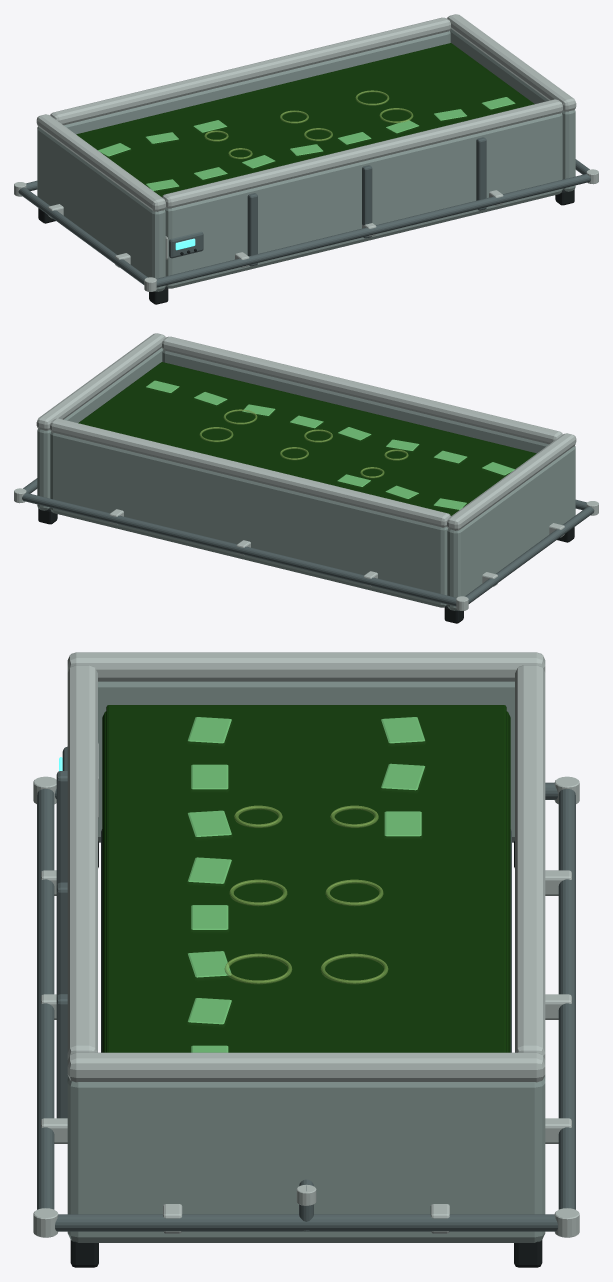
File: Grand bac industriel pour algues.glb
3 renders of one model, top to bottom at view 1: azimuth 30°, elevation 25°; view 2: azimuth 150°, elevation 25°; view 3: azimuth 270°, elevation 25°, orthographic. The views are drawn at different scales.
Parts seen in each view (by area): view 1: 21_large_industrial_algae_vat_Water_Surface, 21_large_industrial_algae_vat_Vat_Wall_Front, 21_large_industrial_algae_vat_Vat_Wall_Left, 21_large_industrial_algae_vat_Reinforced_Rim_Front, 21_large_industrial_algae_vat_Reinforced_Rim_Rear, 21_large_industrial_algae_vat_Vat_Wall_Rear, 21_large_industrial_algae_vat_Perimeter_Front, 21_large_industrial_algae_vat_Reinforced_Rim_Left, 21_large_industrial_algae_vat_Reinforced_Rim_Right, 21_large_industrial_algae_vat_Vat_Wall_Right, 21_large_industrial_algae_vat_Perimeter_Left, 21_large_industrial_algae_vat_Front_Vertical_Brace_+1.22 (+3 smaller); view 2: 21_large_industrial_algae_vat_Vat_Wall_Rear, 21_large_industrial_algae_vat_Water_Surface, 21_large_industrial_algae_vat_Vat_Wall_Left, 21_large_industrial_algae_vat_Reinforced_Rim_Rear, 21_large_industrial_algae_vat_Reinforced_Rim_Front, 21_large_industrial_algae_vat_Vat_Wall_Front, 21_large_industrial_algae_vat_Perimeter_Rear, 21_large_industrial_algae_vat_Reinforced_Rim_Left, 21_large_industrial_algae_vat_Reinforced_Rim_Right, 21_large_industrial_algae_vat_Vat_Wall_Right, 21_large_industrial_algae_vat_Perimeter_Left; view 3: 21_large_industrial_algae_vat_Water_Surface, 21_large_industrial_algae_vat_Vat_Wall_Right, 21_large_industrial_algae_vat_Reinforced_Rim_Right, 21_large_industrial_algae_vat_Reinforced_Rim_Left, 21_large_industrial_algae_vat_Reinforced_Rim_Front, 21_large_industrial_algae_vat_Reinforced_Rim_Rear, 21_large_industrial_algae_vat_Vat_Wall_Left, 21_large_industrial_algae_vat_Perimeter_Right, 21_large_industrial_algae_vat_Perimeter_Front, 21_large_industrial_algae_vat_Perimeter_Rear, 21_large_industrial_algae_vat_Algae_Liquid, 21_large_industrial_algae_vat_Front_Vertical_Brace_+1.22 (+13 smaller).
Boxes of the visible parts, x1,y1,x2,y2 form: 21_large_industrial_algae_vat_Water_Surface: (76, 43, 534, 196); 21_large_industrial_algae_vat_Vat_Wall_Front: (165, 113, 562, 288); 21_large_industrial_algae_vat_Vat_Wall_Left: (37, 127, 165, 291); 21_large_industrial_algae_vat_Reinforced_Rim_Front: (162, 99, 562, 208); 21_large_industrial_algae_vat_Reinforced_Rim_Rear: (50, 17, 450, 125); 21_large_industrial_algae_vat_Vat_Wall_Rear: (64, 31, 450, 134); 21_large_industrial_algae_vat_Perimeter_Front: (156, 174, 590, 287); 21_large_industrial_algae_vat_Reinforced_Rim_Left: (36, 114, 165, 211); 21_large_industrial_algae_vat_Reinforced_Rim_Right: (447, 14, 576, 111); 21_large_industrial_algae_vat_Vat_Wall_Right: (450, 29, 575, 191); 21_large_industrial_algae_vat_Perimeter_Left: (18, 187, 147, 284); 21_large_industrial_algae_vat_Front_Vertical_Brace_+1.22: (476, 137, 486, 210); 21_large_industrial_algae_vat_Vat_Wall_Rear: (50, 432, 447, 607); 21_large_industrial_algae_vat_Water_Surface: (78, 362, 536, 515); 21_large_industrial_algae_vat_Vat_Wall_Left: (447, 446, 575, 610); 21_large_industrial_algae_vat_Reinforced_Rim_Rear: (50, 418, 450, 527); 21_large_industrial_algae_vat_Reinforced_Rim_Front: (162, 336, 562, 444); 21_large_industrial_algae_vat_Vat_Wall_Front: (162, 350, 548, 453); 21_large_industrial_algae_vat_Perimeter_Rear: (22, 493, 456, 606); 21_large_industrial_algae_vat_Reinforced_Rim_Left: (447, 433, 576, 530); 21_large_industrial_algae_vat_Reinforced_Rim_Right: (36, 333, 165, 430); 21_large_industrial_algae_vat_Vat_Wall_Right: (37, 348, 162, 510); 21_large_industrial_algae_vat_Perimeter_Left: (465, 506, 594, 603); 21_large_industrial_algae_vat_Water_Surface: (106, 705, 506, 1052); 21_large_industrial_algae_vat_Vat_Wall_Right: (67, 1077, 545, 1242); 21_large_industrial_algae_vat_Reinforced_Rim_Right: (67, 1052, 545, 1082); 21_large_industrial_algae_vat_Reinforced_Rim_Left: (67, 652, 545, 681); 21_large_industrial_algae_vat_Reinforced_Rim_Front: (67, 665, 97, 1059); 21_large_industrial_algae_vat_Reinforced_Rim_Rear: (515, 665, 545, 1059); 21_large_industrial_algae_vat_Vat_Wall_Left: (98, 681, 514, 842); 21_large_industrial_algae_vat_Perimeter_Right: (55, 1214, 557, 1231); 21_large_industrial_algae_vat_Perimeter_Front: (37, 789, 54, 1209); 21_large_industrial_algae_vat_Perimeter_Rear: (558, 789, 575, 1209); 21_large_industrial_algae_vat_Algae_Liquid: (102, 711, 510, 1052); 21_large_industrial_algae_vat_Front_Vertical_Brace_+1.22: (56, 994, 67, 1118).
Bounding box in the file's own units: 4.82 × 1.06 × 2.52.
